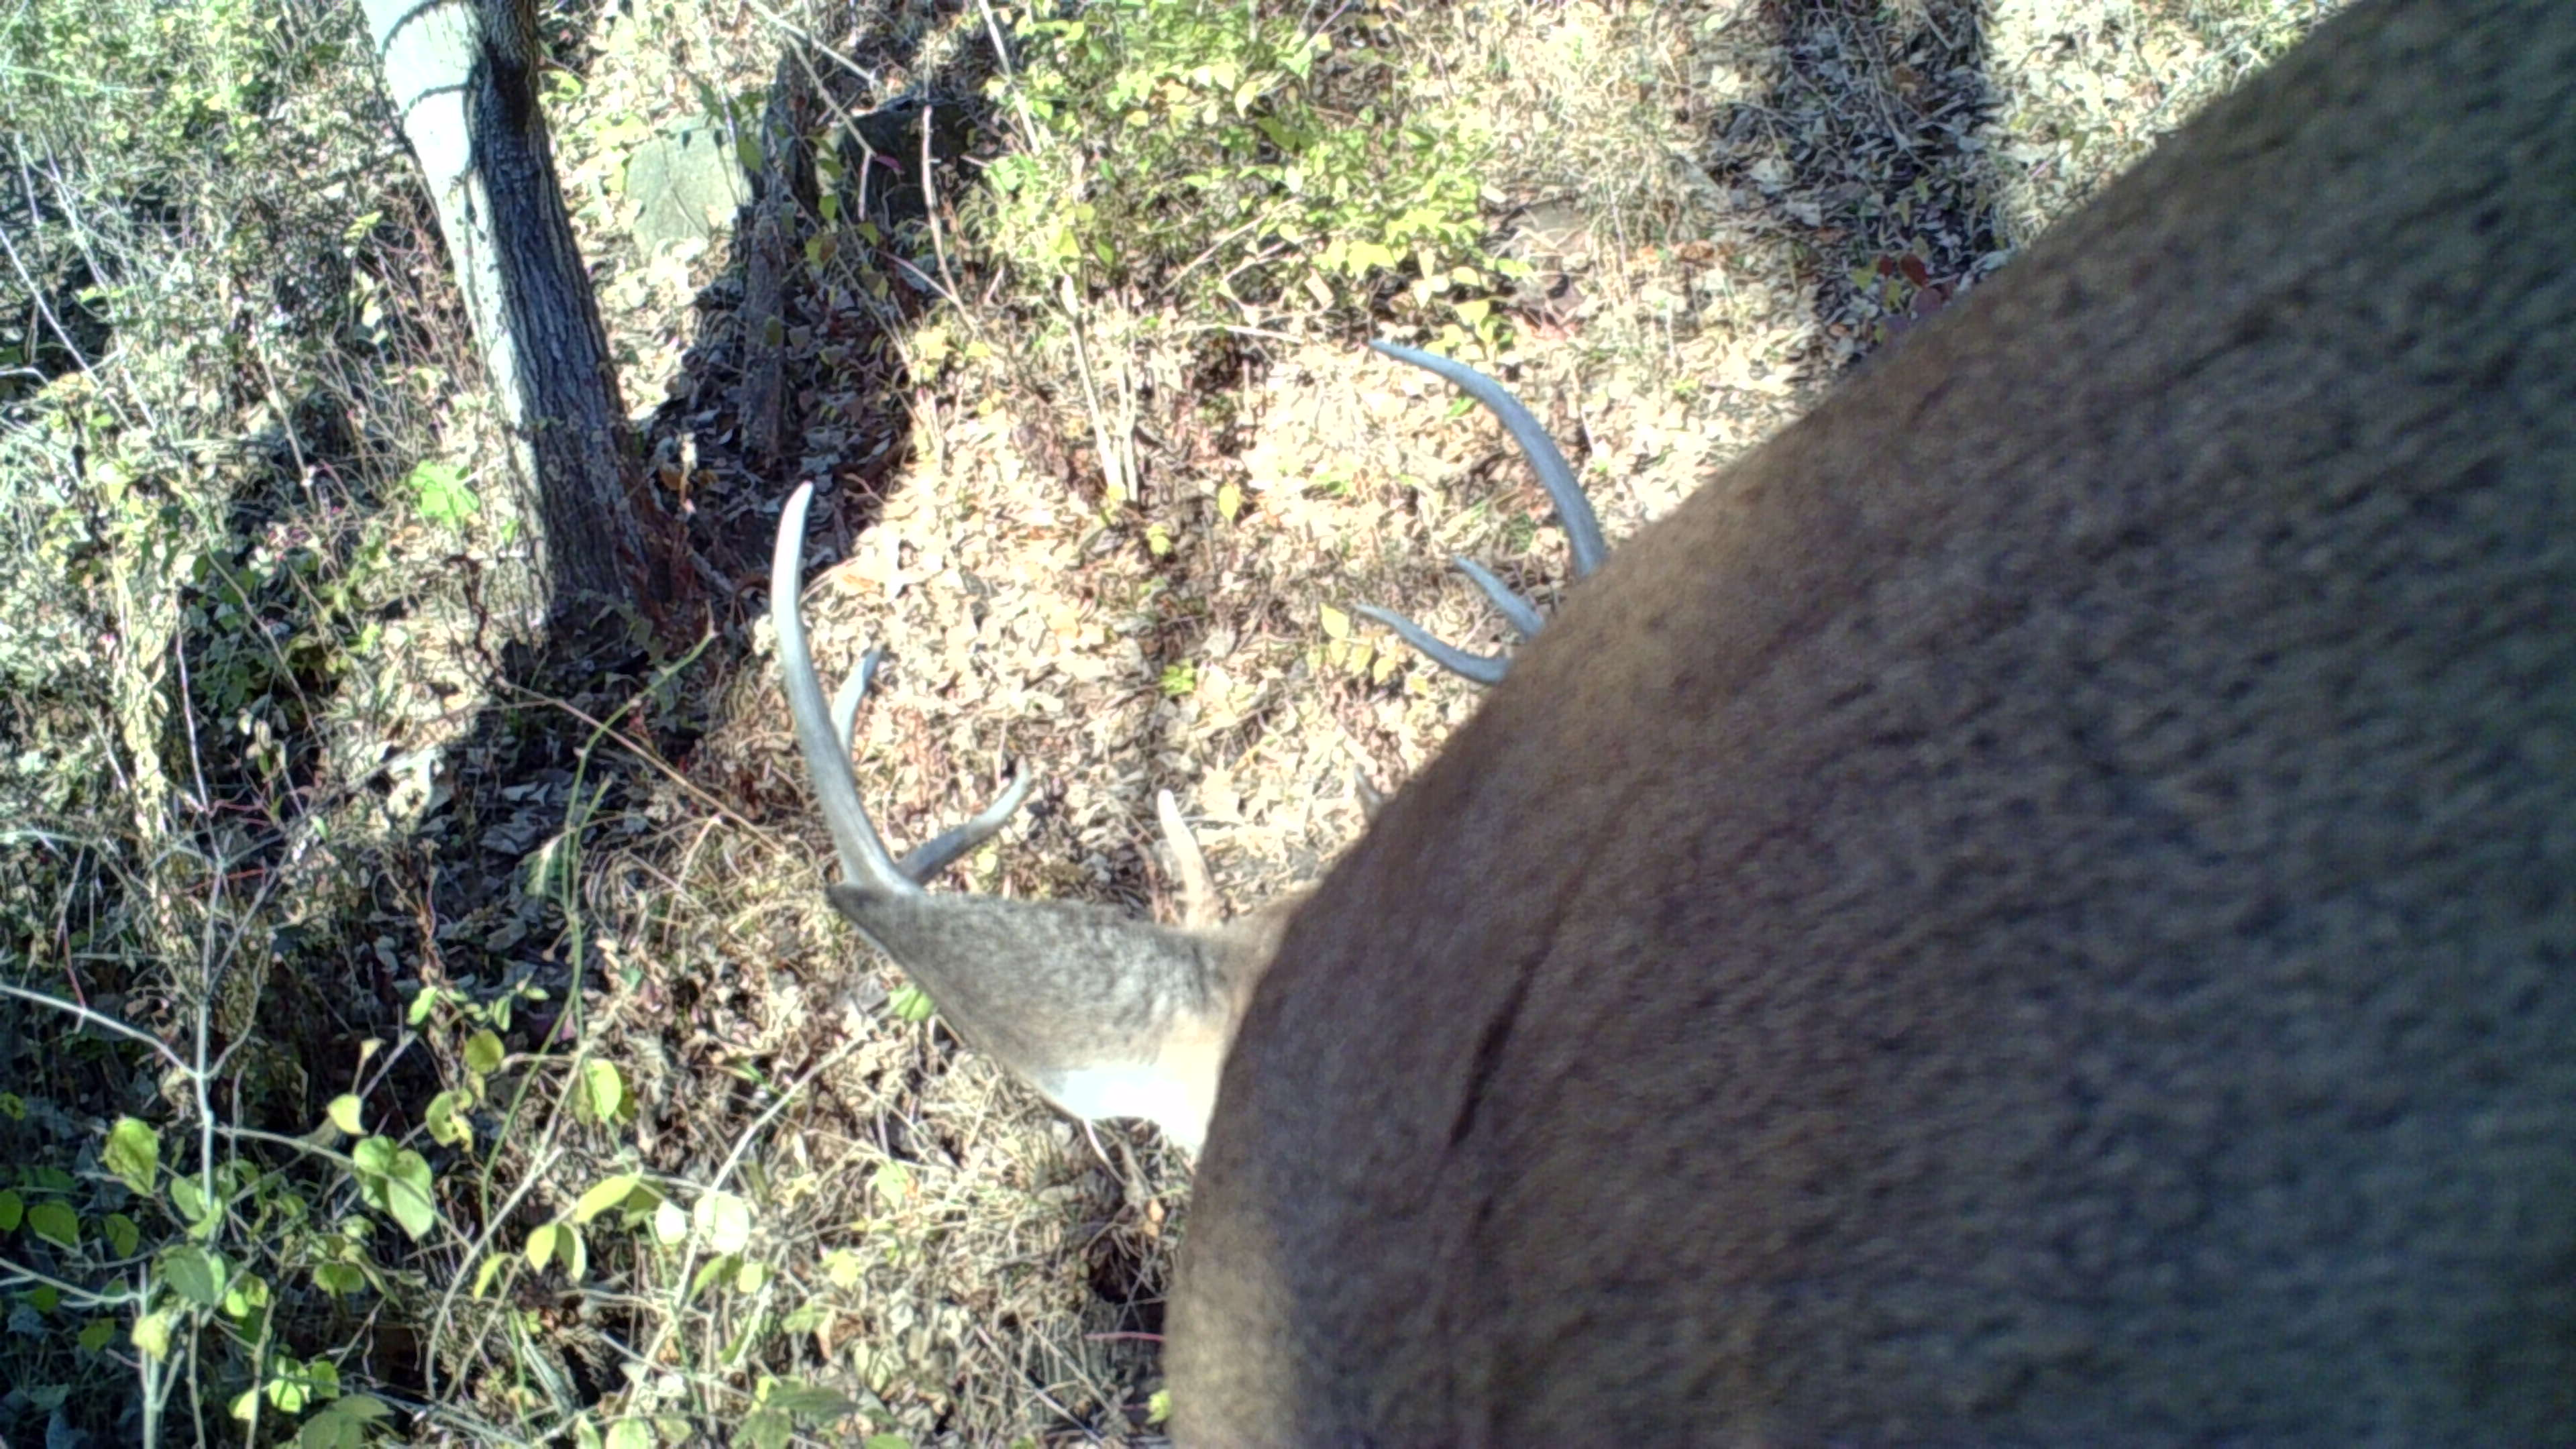DeerBuck: (766, 1, 2576, 1449)
DeerBuckHead: (765, 350, 1611, 1120)
